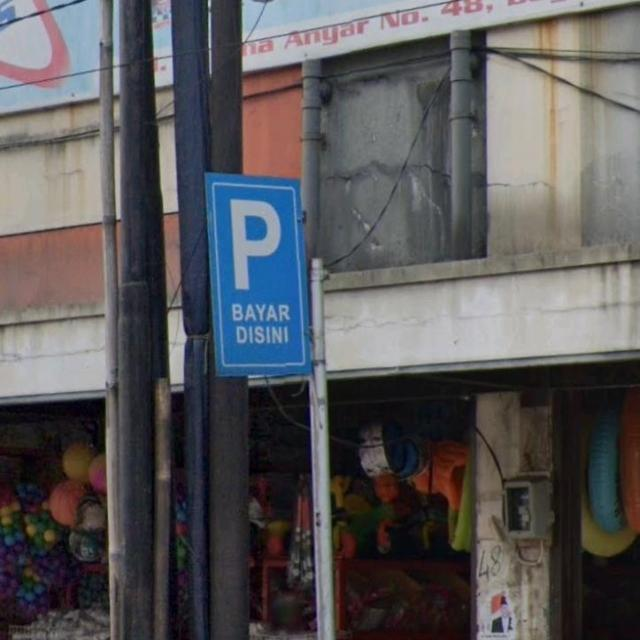traffic sign: (200, 171, 312, 375)
